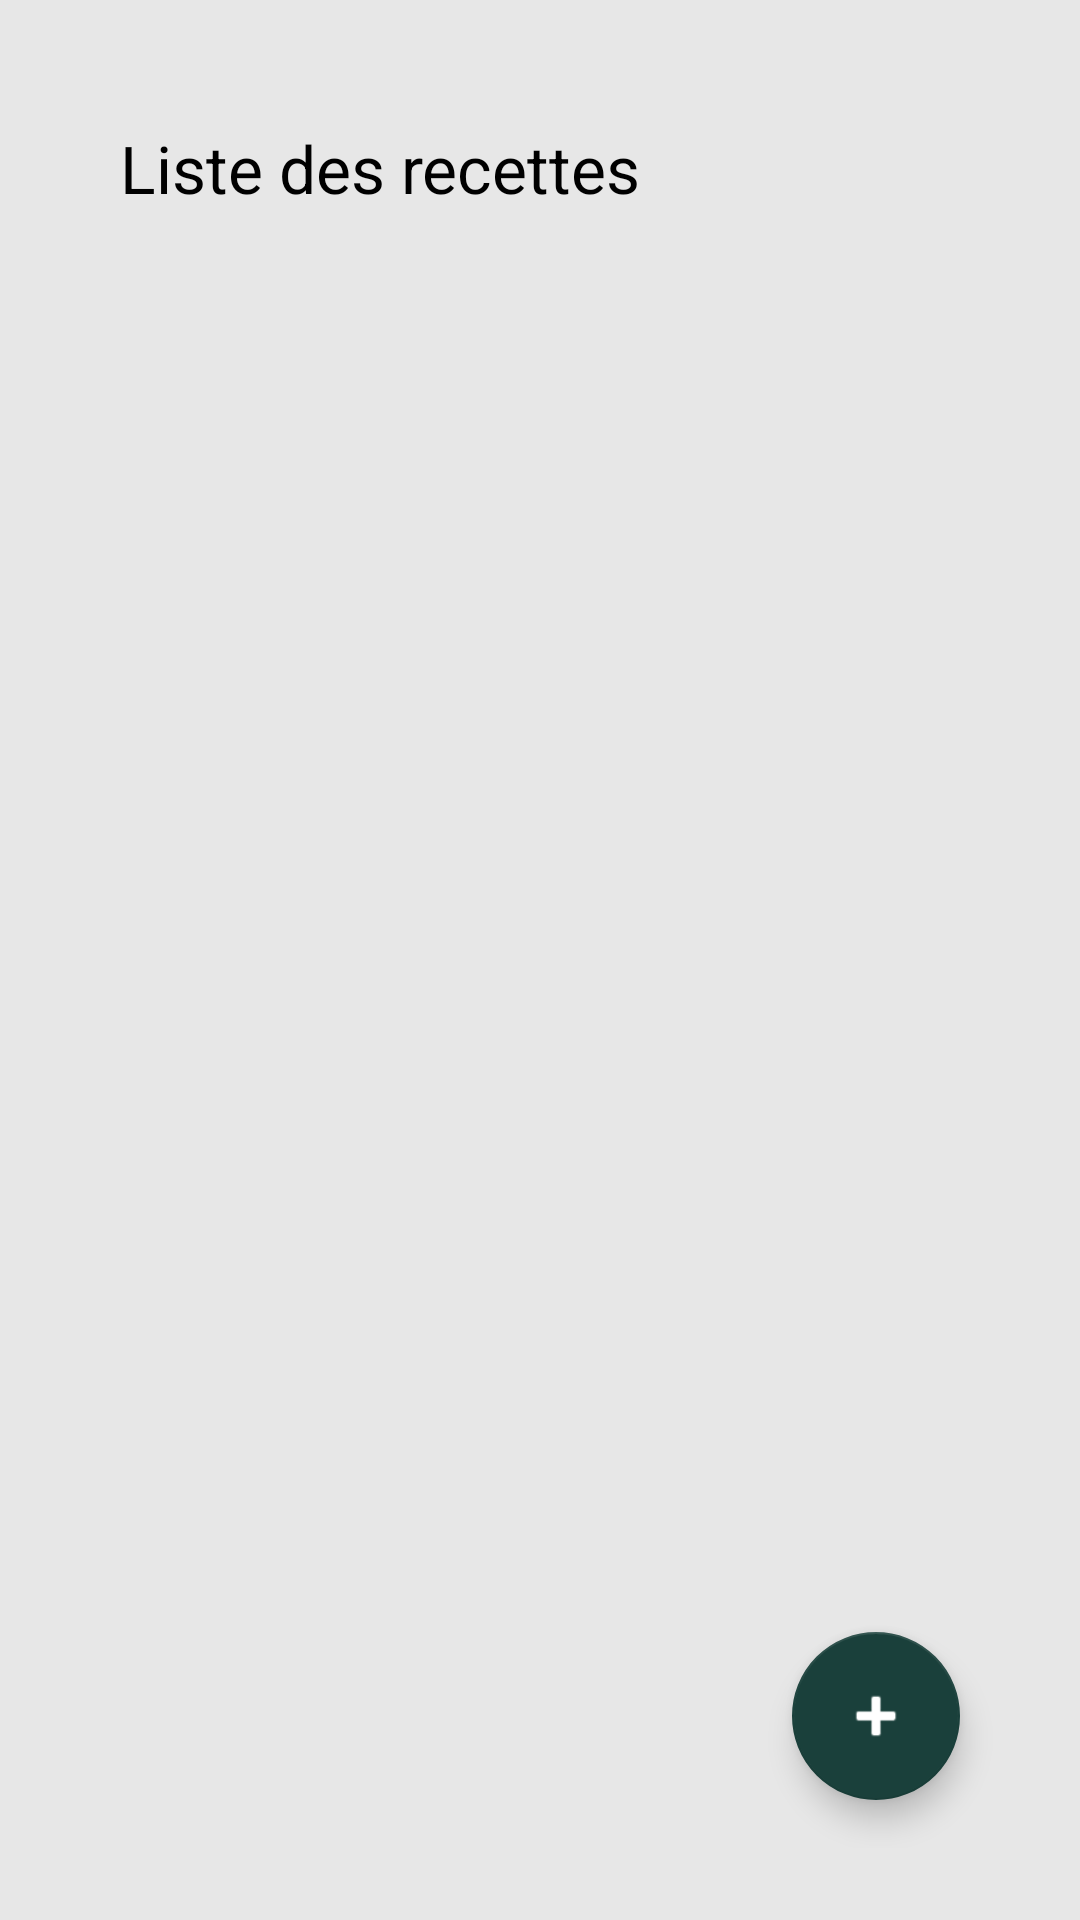

Screen size 1080x1920. Icon name, then its center in pixels as point (x, y):
Ajouter un nouvel élément: point (876, 1716)
